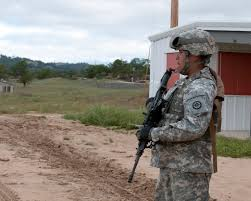gun: (127, 66, 175, 183)
